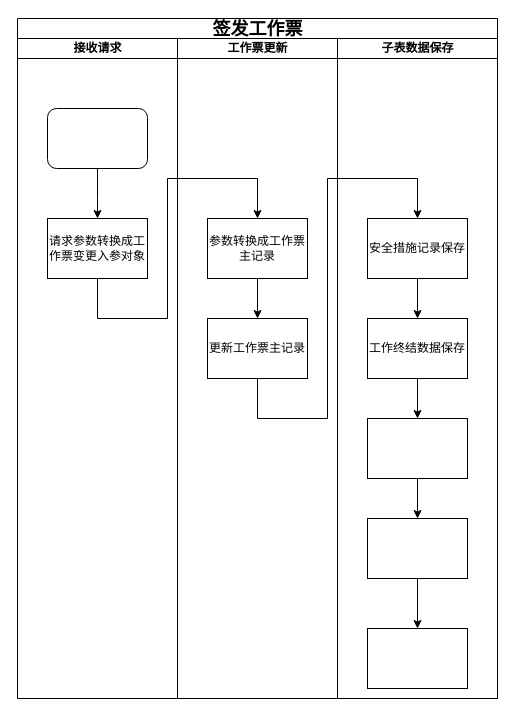
This 515x716 diagram has some shape labels left out. Each missing label, with the centre of its shape:
工作许可数据保存: the point at 417,448
开始: the point at 97,138
成功返回: the point at 417,658
配电安全措施数据保存: the point at 417,548
